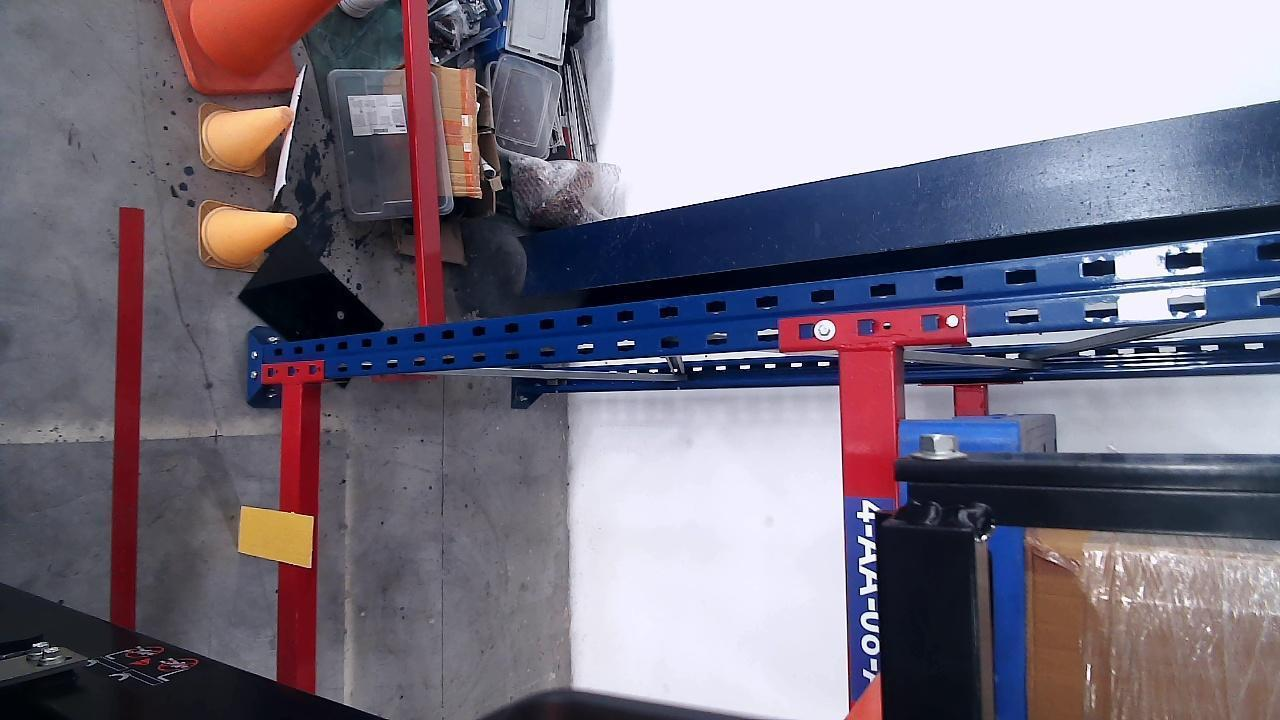red_line: (111, 206, 148, 633)
